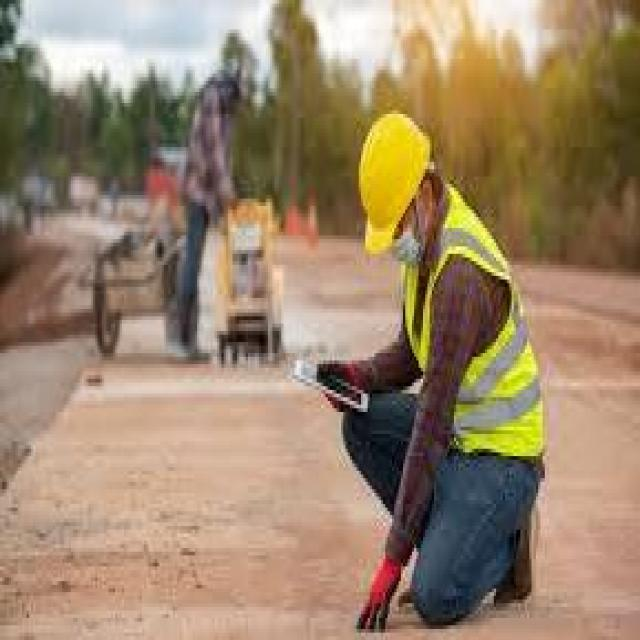Reflective-Jacket: (394, 188, 567, 478)
Safety-Helmet: (350, 103, 438, 265)
